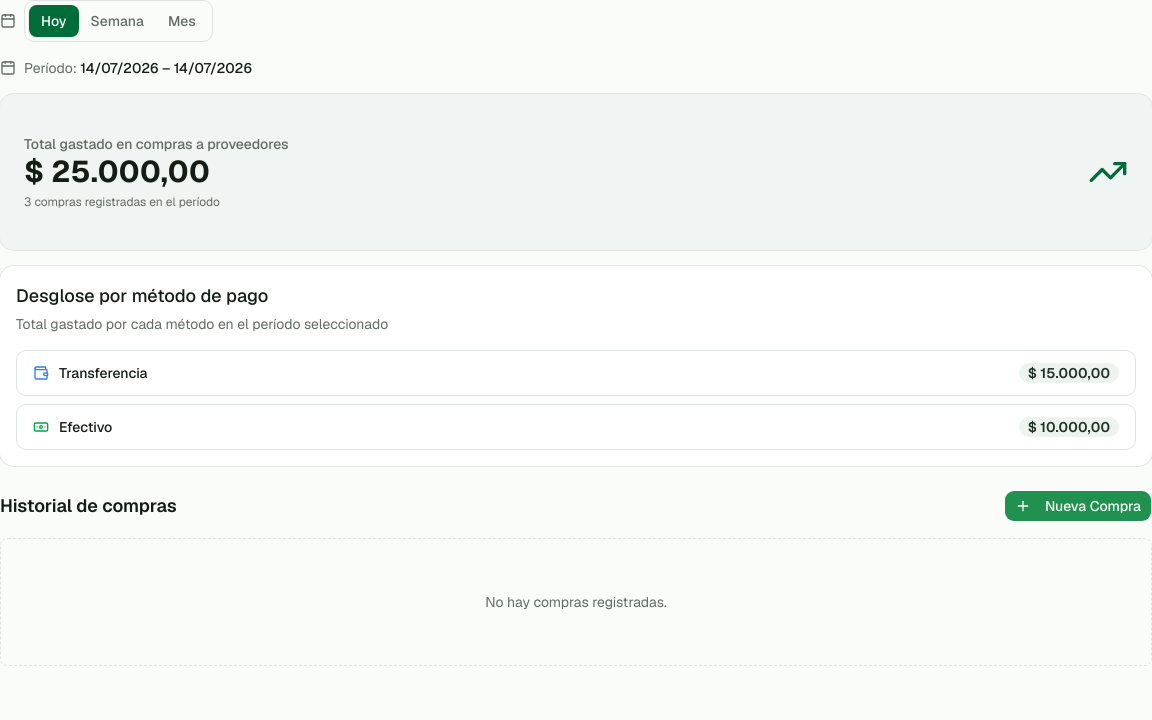
Test: ProviderPurchasesShell › opens create dialog, validates empty provider name, and shows error
expect the text "No hay compras registradas." is shown: met, box [485,592,667,612]
Note: Click "Nueva Compra" button
Click the button "Nueva Compra": (1078, 506) [1004,490,1151,522]
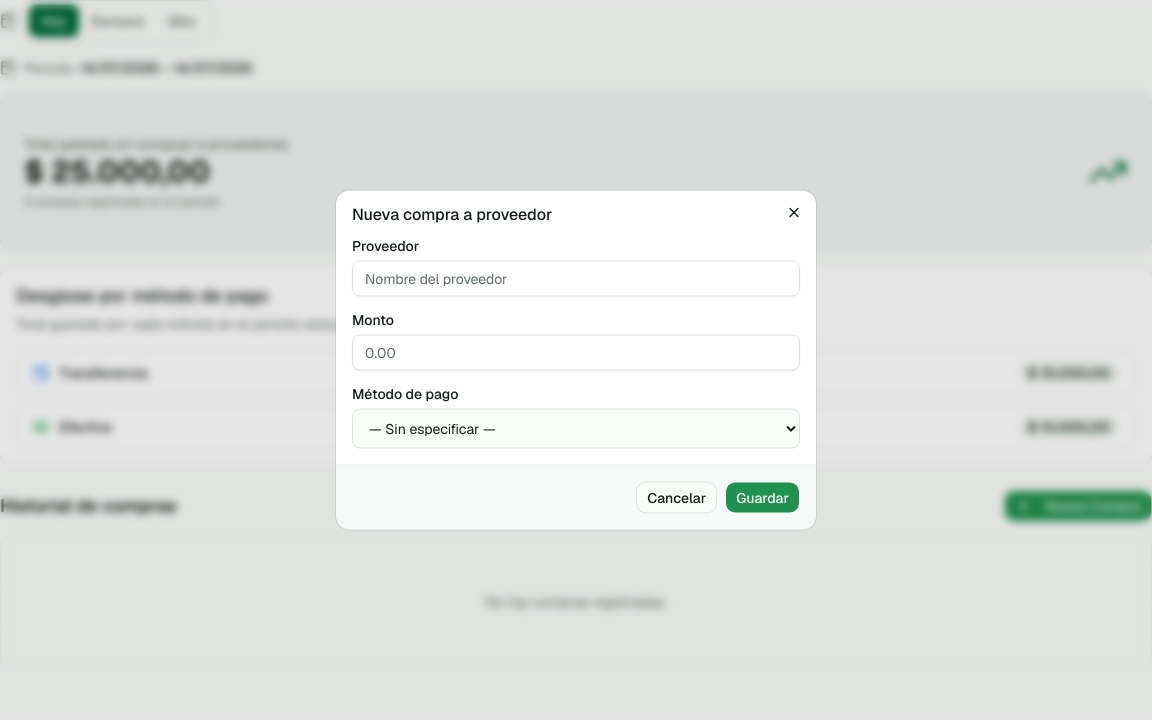
expect the dialog is shown: met, box [336,190,816,530]
Note: Dialog should be open — try submitting with empty fields
Click the button "Guardar": (763, 498) [725,482,800,514]
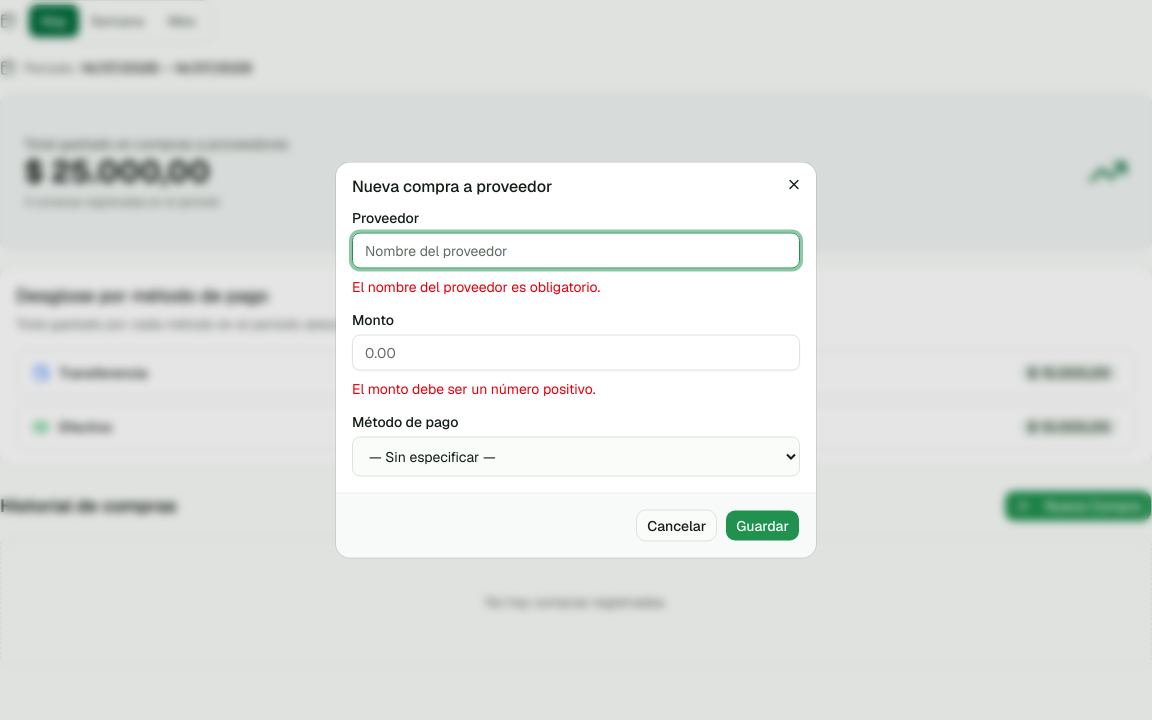
expect the text "El nombre del proveedor es obligatorio." is shown: met, box [352,278,600,296]
